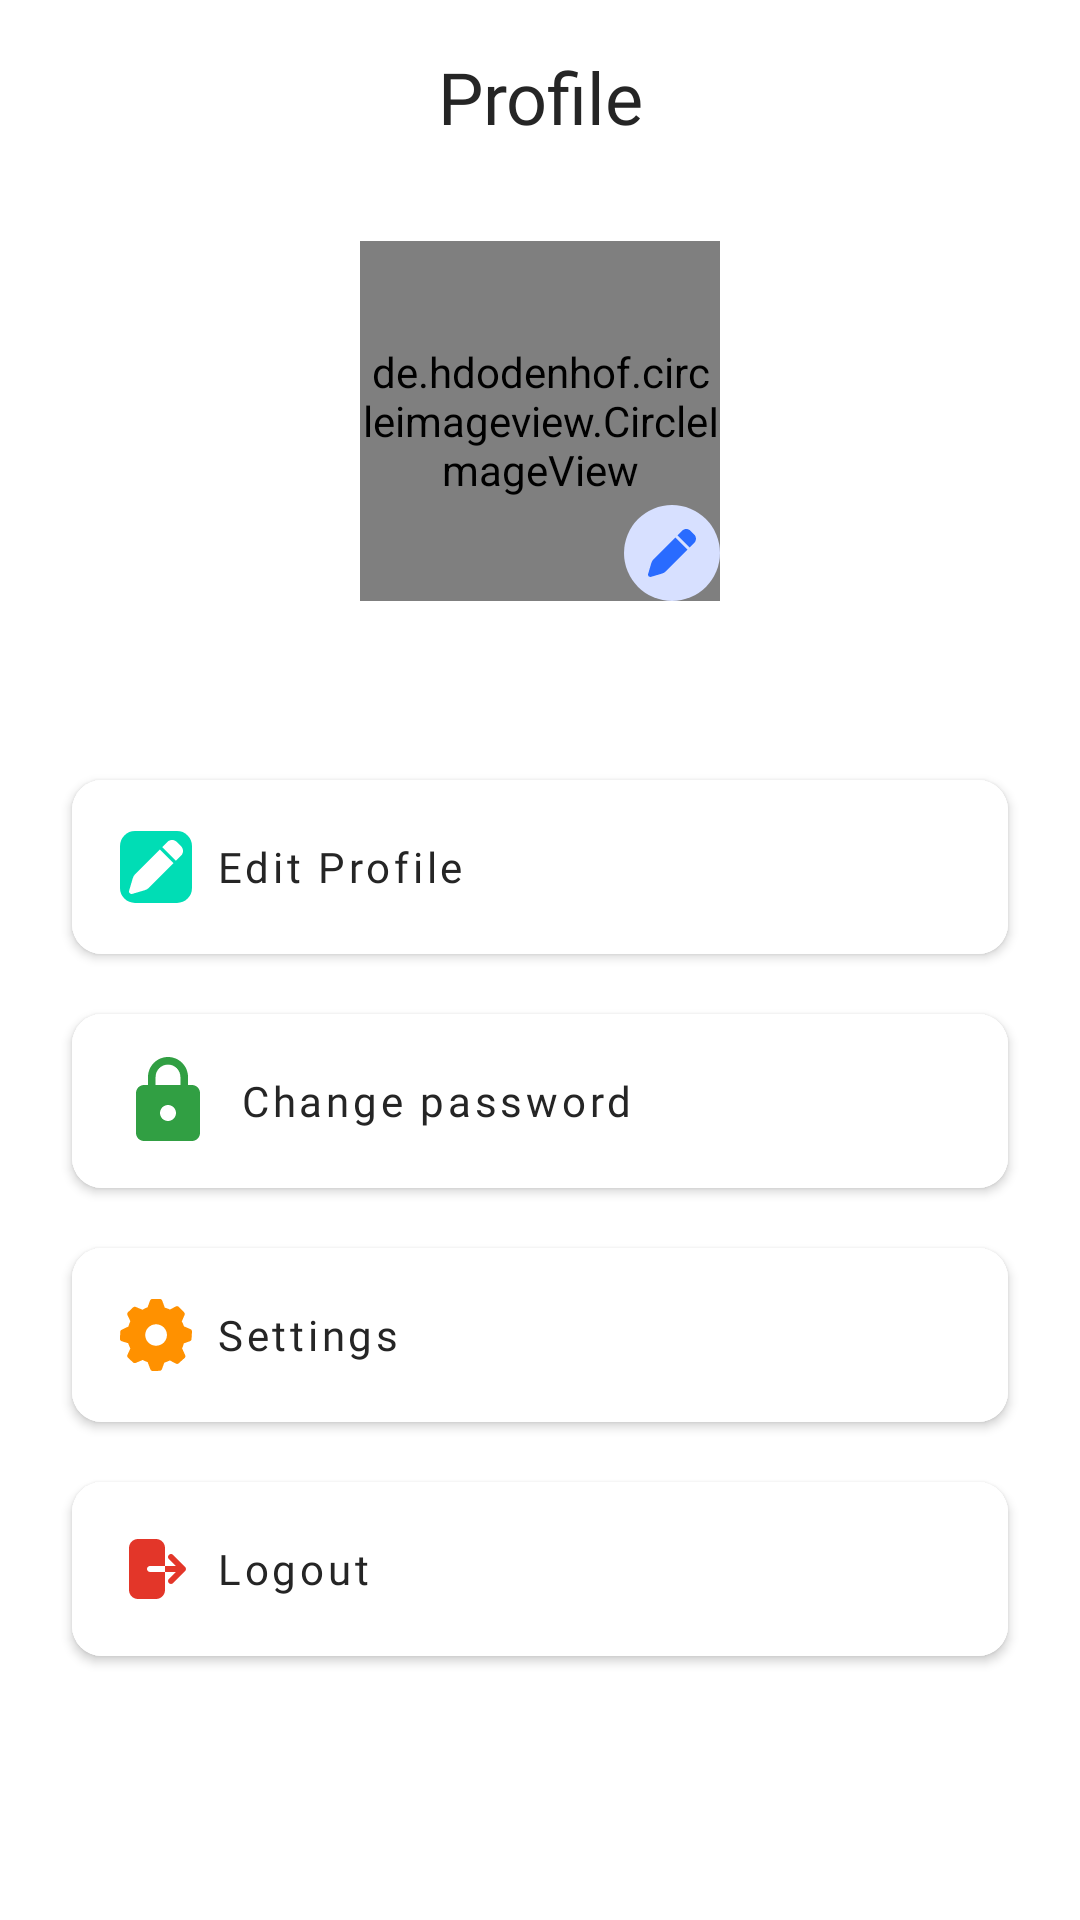

Named icons in this screenshot (1080x1920) and their centers, (x=x, y=y):
edit: (x=672, y=553)
